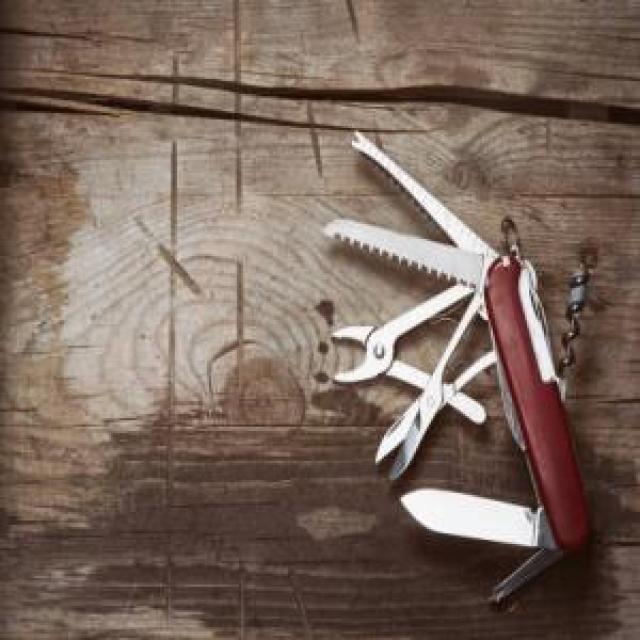knife: (399, 488, 550, 558)
